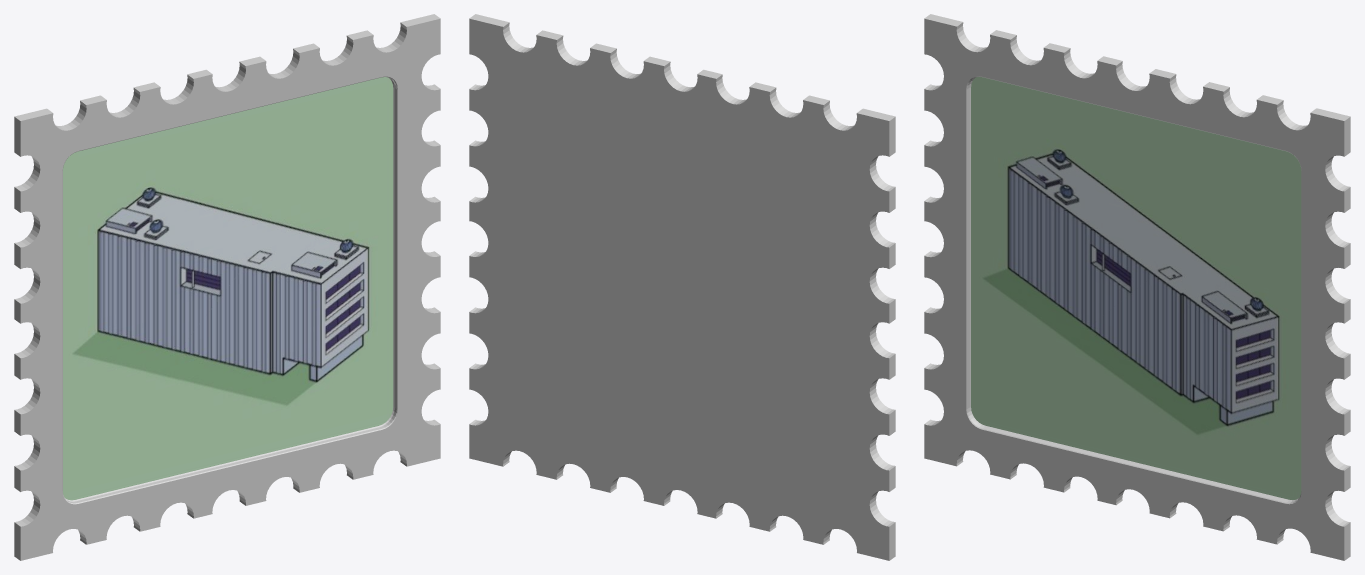
File: B_Olivia_06.glb
3 renders of one model, left to right at view 1: azimuth 30°, elevation 25°; view 2: azimuth 150°, elevation 25°; view 3: azimuth 330°, elevation 25°, orthographic.
Visible parts, largest first — view 1: Plane005, Plane004; view 2: Plane004; view 3: Plane005, Plane004.
Part boxes in pixels (left/top/right/bottom): Plane005: left=63, top=77, right=393, bottom=500; Plane004: left=14, top=14, right=440, bottom=560; Plane004: left=469, top=14, right=895, bottom=560; Plane005: left=971, top=77, right=1301, bottom=499; Plane004: left=924, top=14, right=1350, bottom=560.
Bounding box in the file's own units: 0.3 × 0.3 × 0.00781.
Materials: 2 (1 with a texture image).
